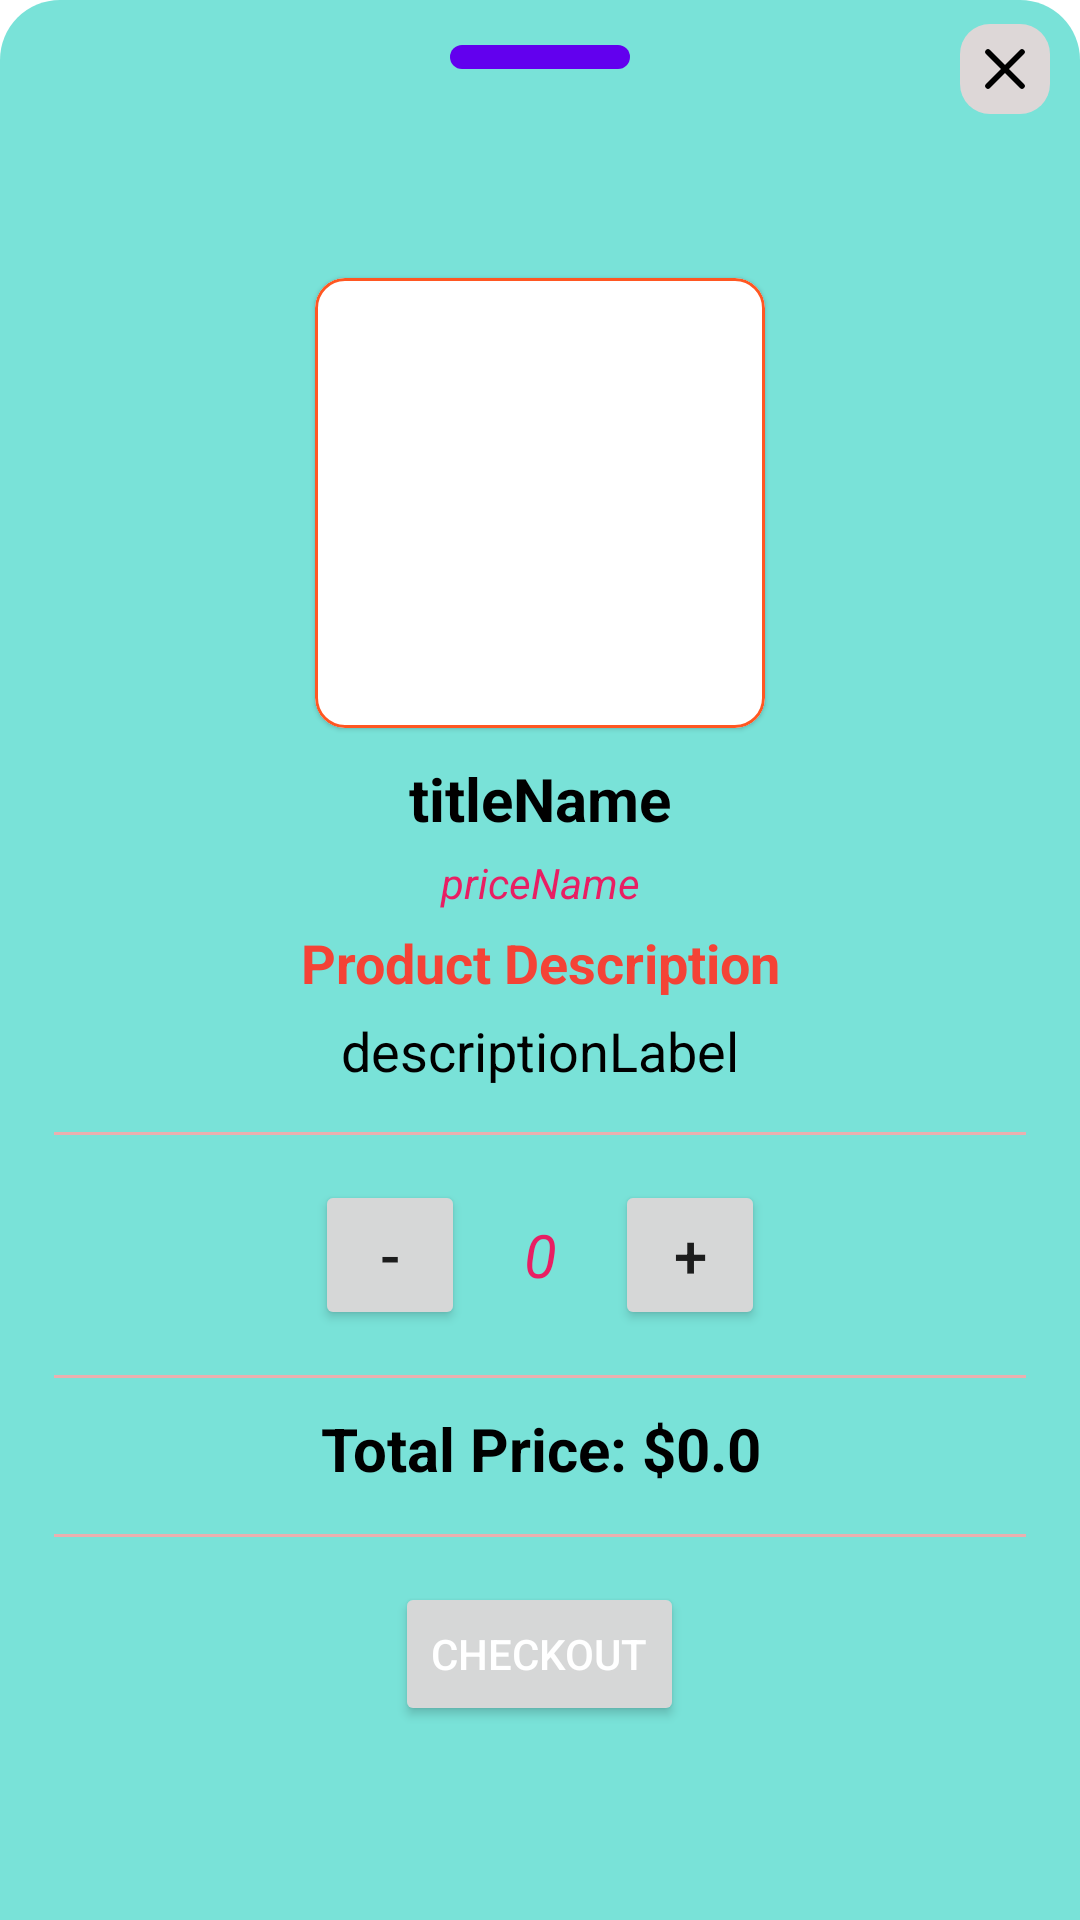

Where icons sit on this 1080px x 1920px app screen, as box=[x1, y1, x2, y2]:
close: box=[960, 24, 1050, 114]
